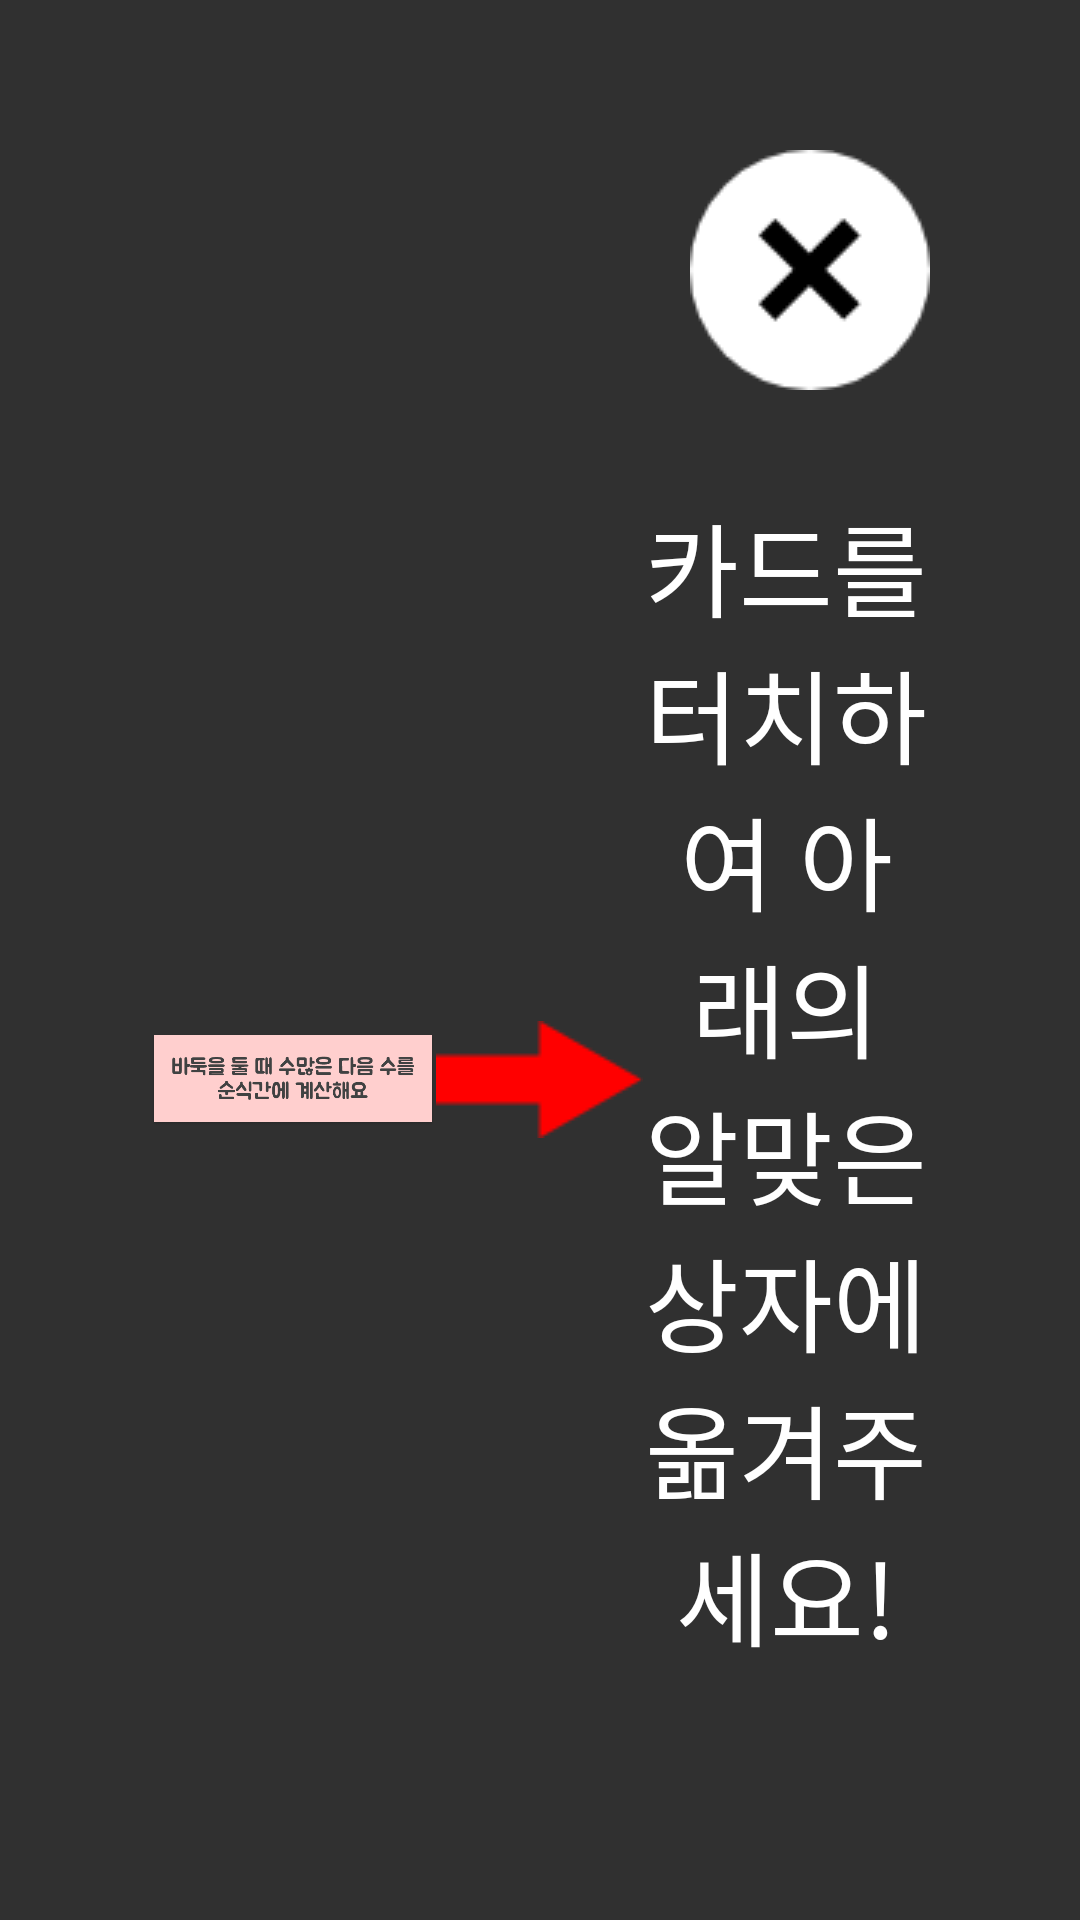

Point at icon controls on the screen. Image size 1080px x 1920px, points as (x=x, y=y).
moral dialog cl: (x=810, y=270)
